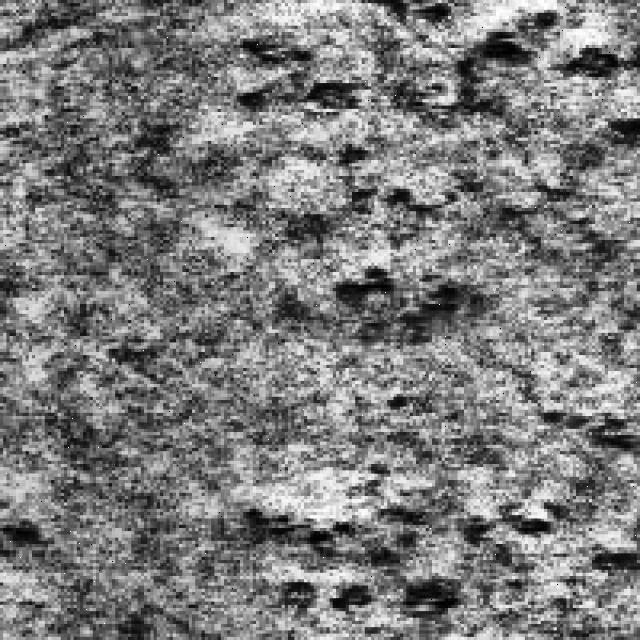Crazing: (240, 426, 627, 614), (236, 0, 614, 109), (323, 166, 464, 340)
